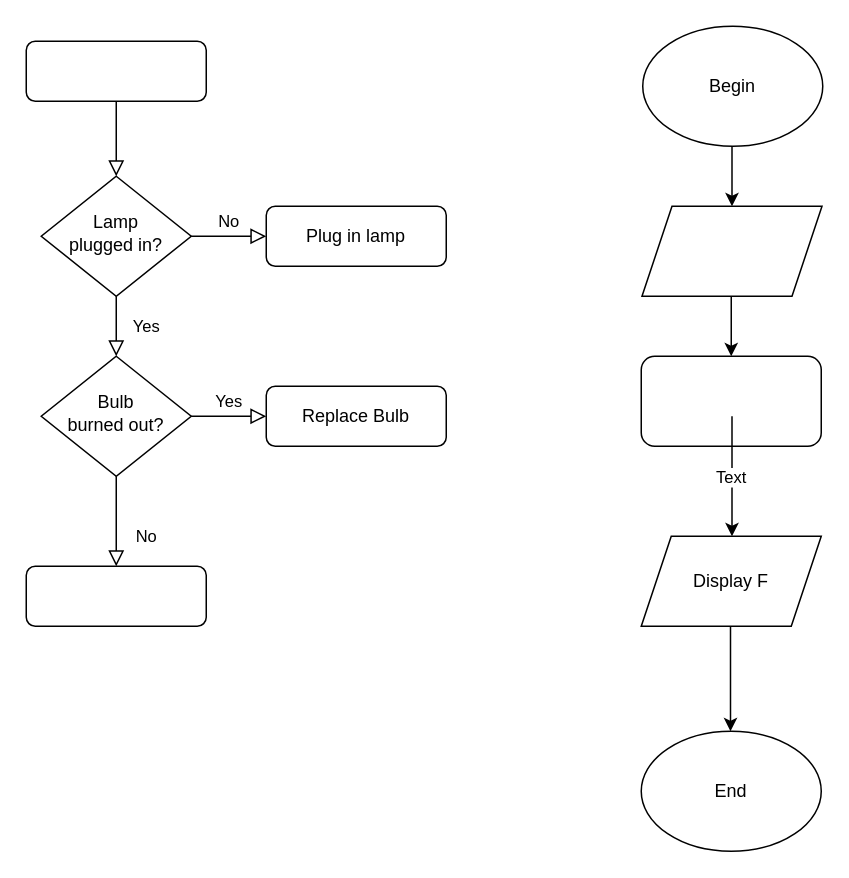
Image size: 849x878. Some labels were removed from this diagram. Each missing label, with the centre of its shape:
"F = ( 9 *C)/ 5 + 32" goes at (x=730, y=400).
"Input C" goes at (x=731, y=250).
"Lamp doesn't work" goes at (x=115, y=70).
"Repair Lamp" goes at (x=115, y=595).
